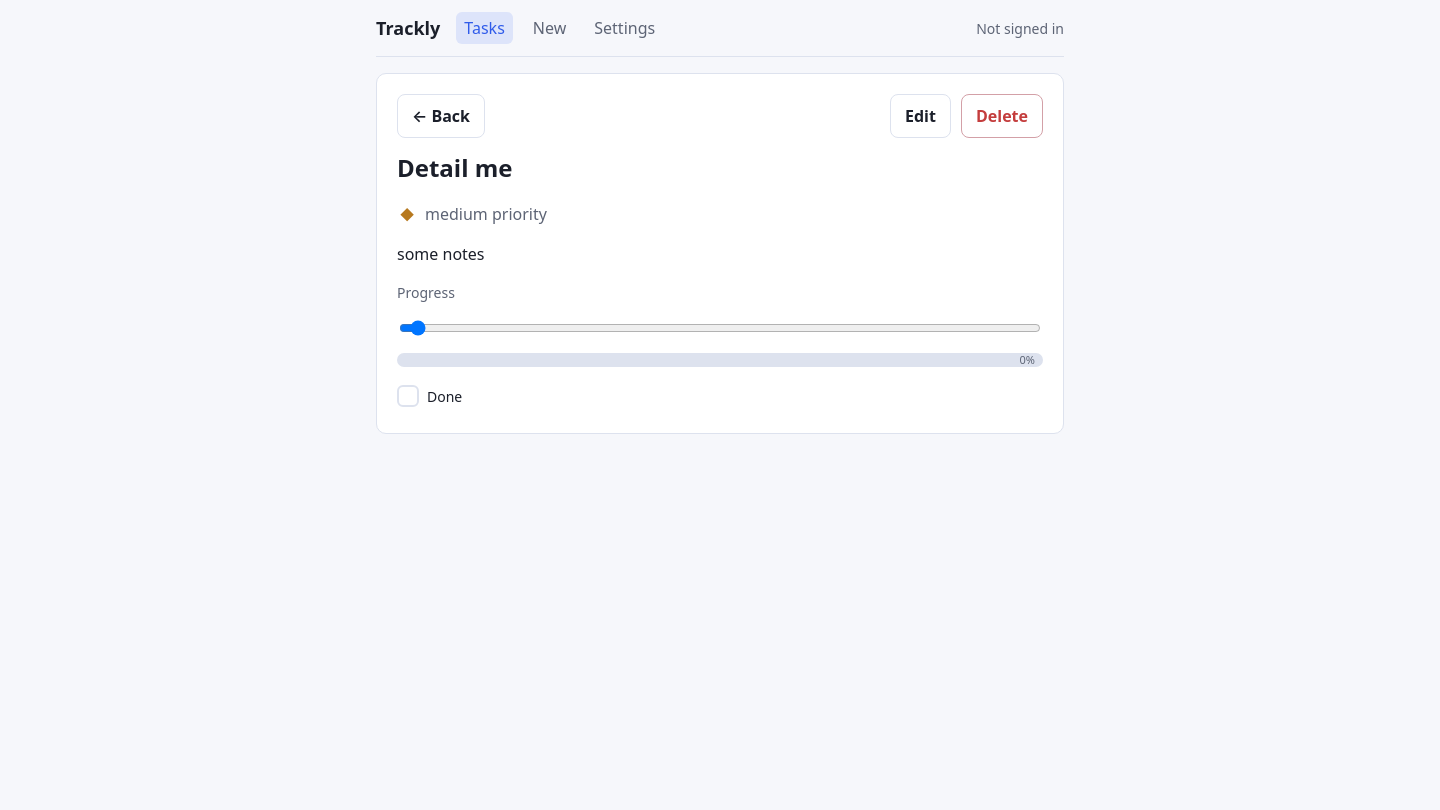
Test case: screens › opens the detail page, edits, and deletes
Expected: the heading with test id "detail-title" reads "Detail me", left=397, top=151, right=512, bottom=184
Step 1. Click the button with test id "edit-button" → [920, 116], box left=890, top=94, right=951, bottom=138
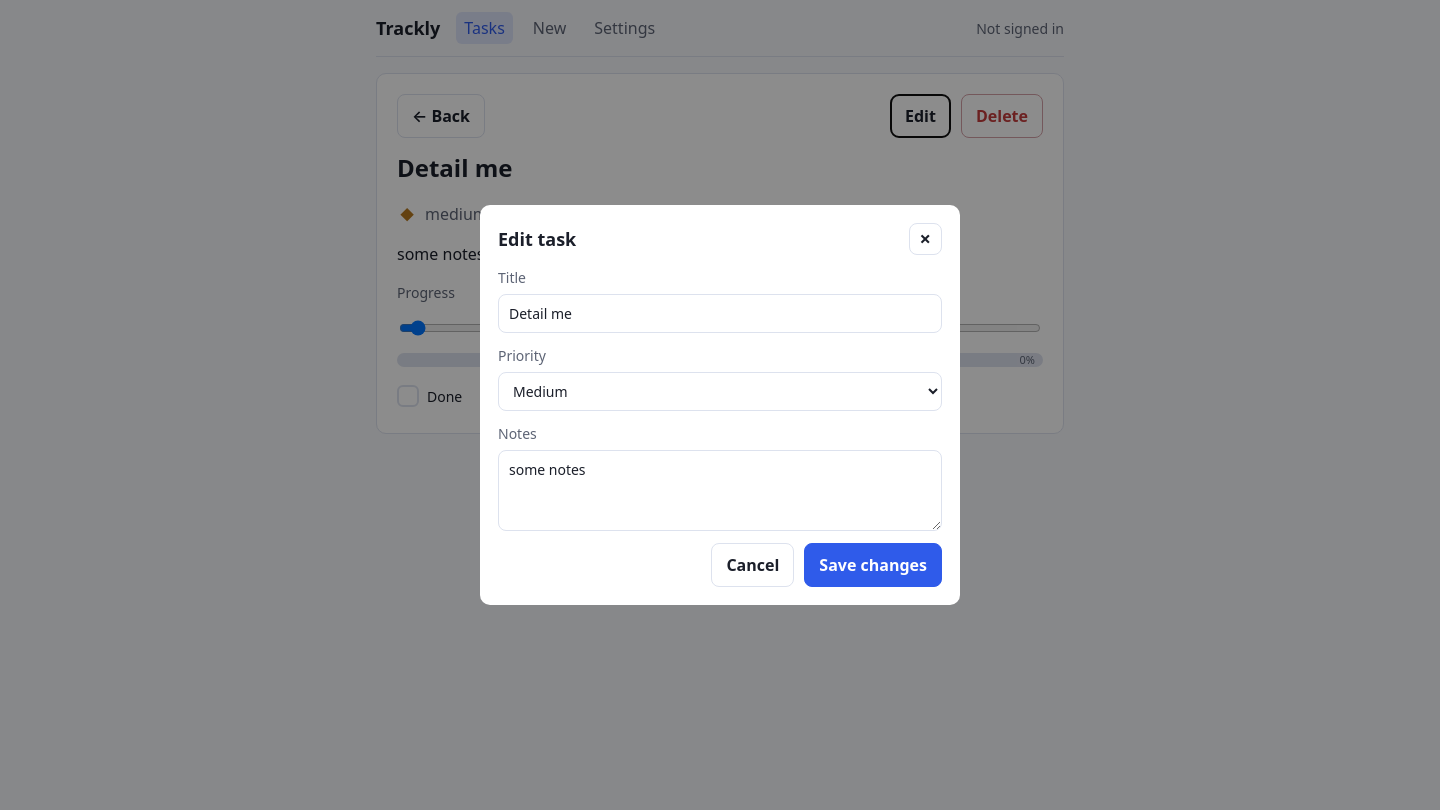
Step 2. Replace the text in the field with test id "edit-title-input" with "Edited" → [720, 314], box left=498, top=294, right=942, bottom=333
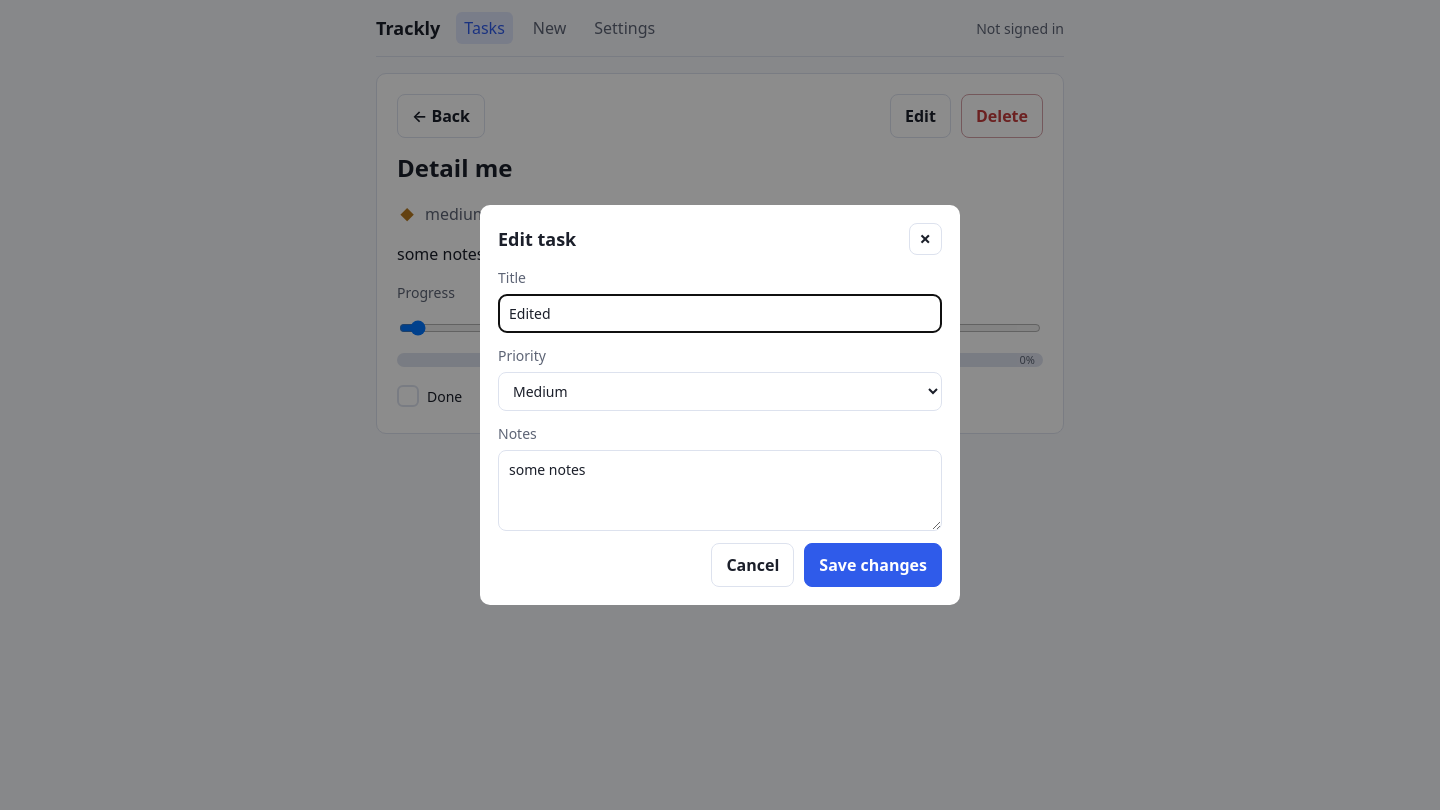
Step 3. Click the button with test id "edit-save" → [873, 565], box left=804, top=543, right=942, bottom=587
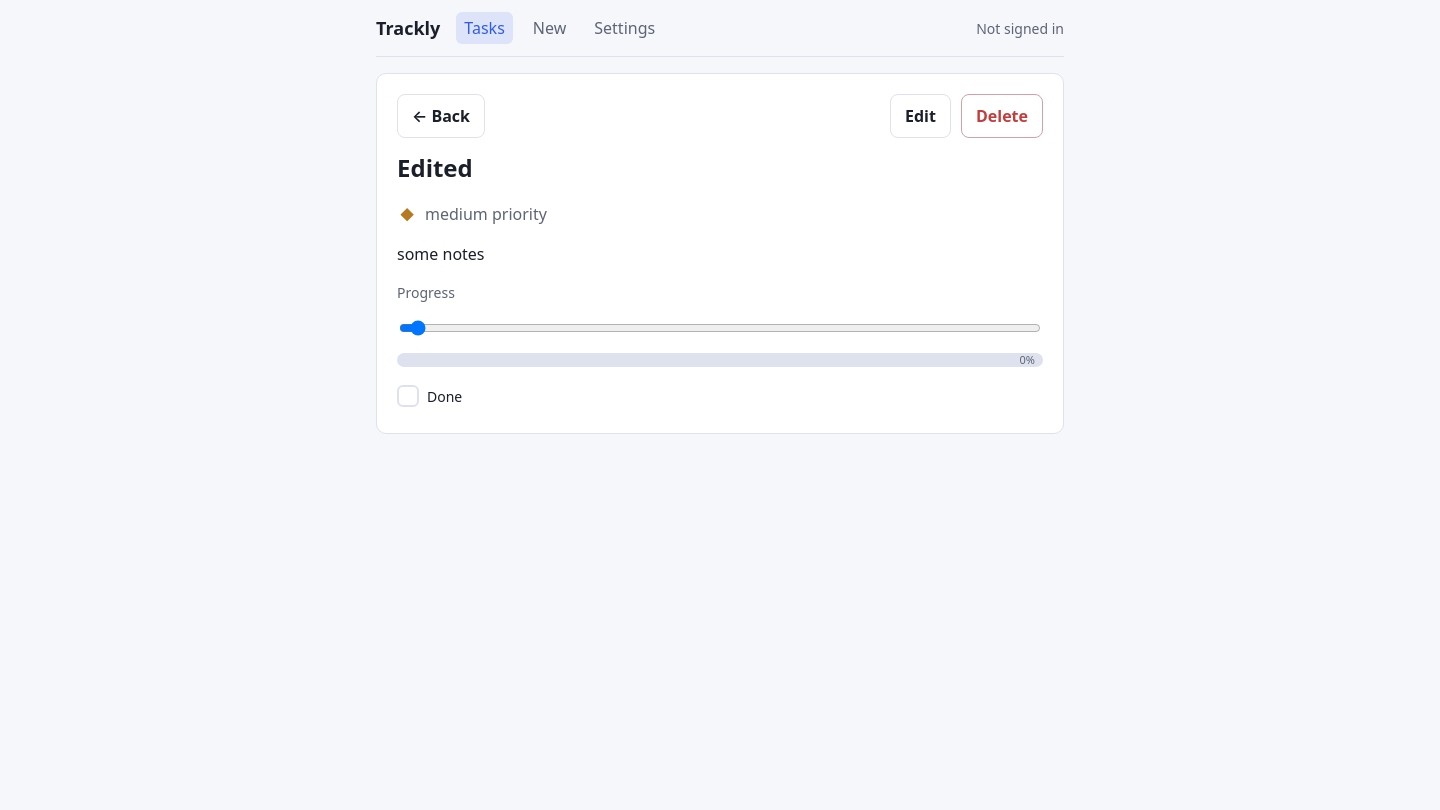
Expected: the heading with test id "detail-title" reads "Edited", left=397, top=151, right=473, bottom=184
Step 4. Click the button with test id "delete-button" → [1002, 116], box left=961, top=94, right=1043, bottom=138
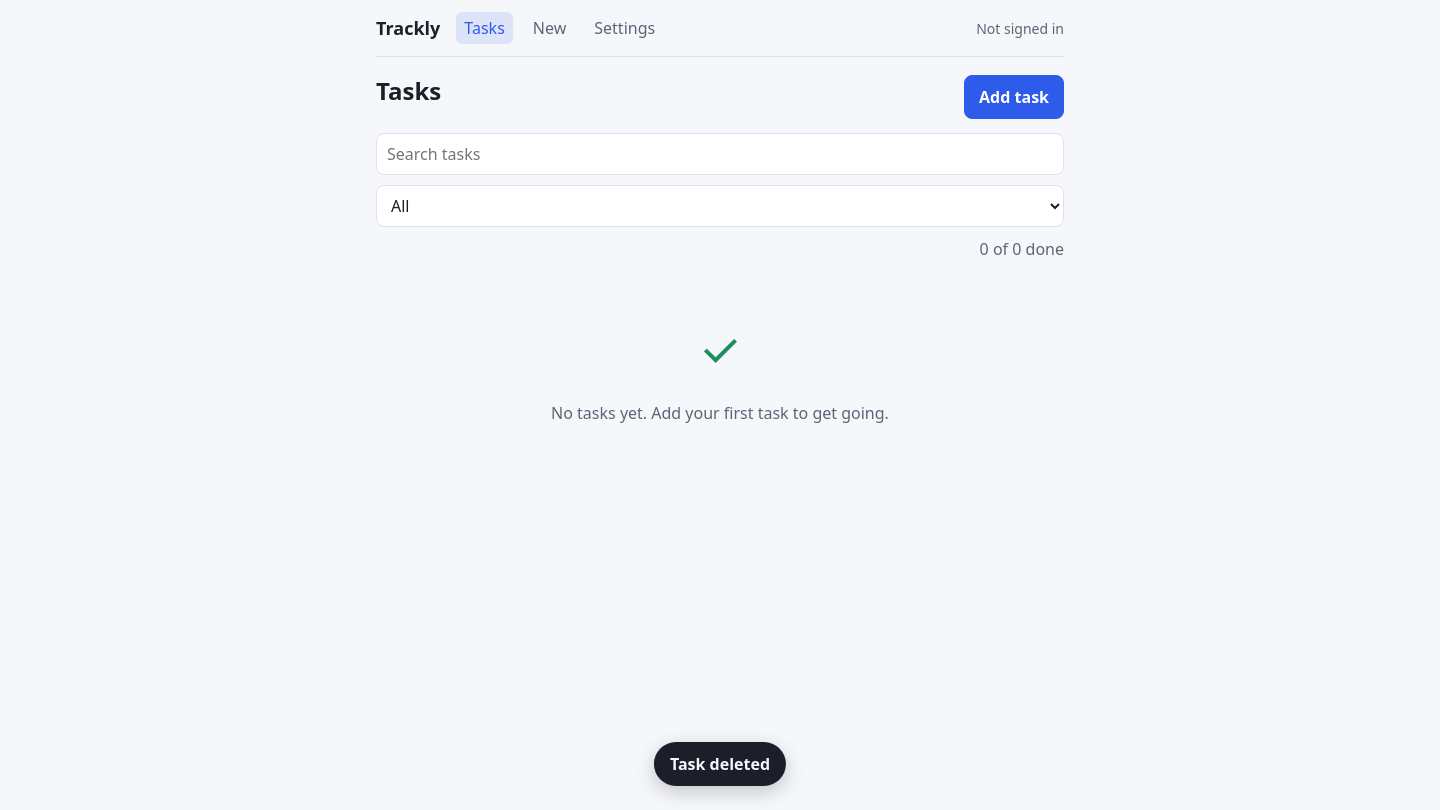
Expected: the message with test id "toast" reads "Task deleted", left=670, top=753, right=770, bottom=775
